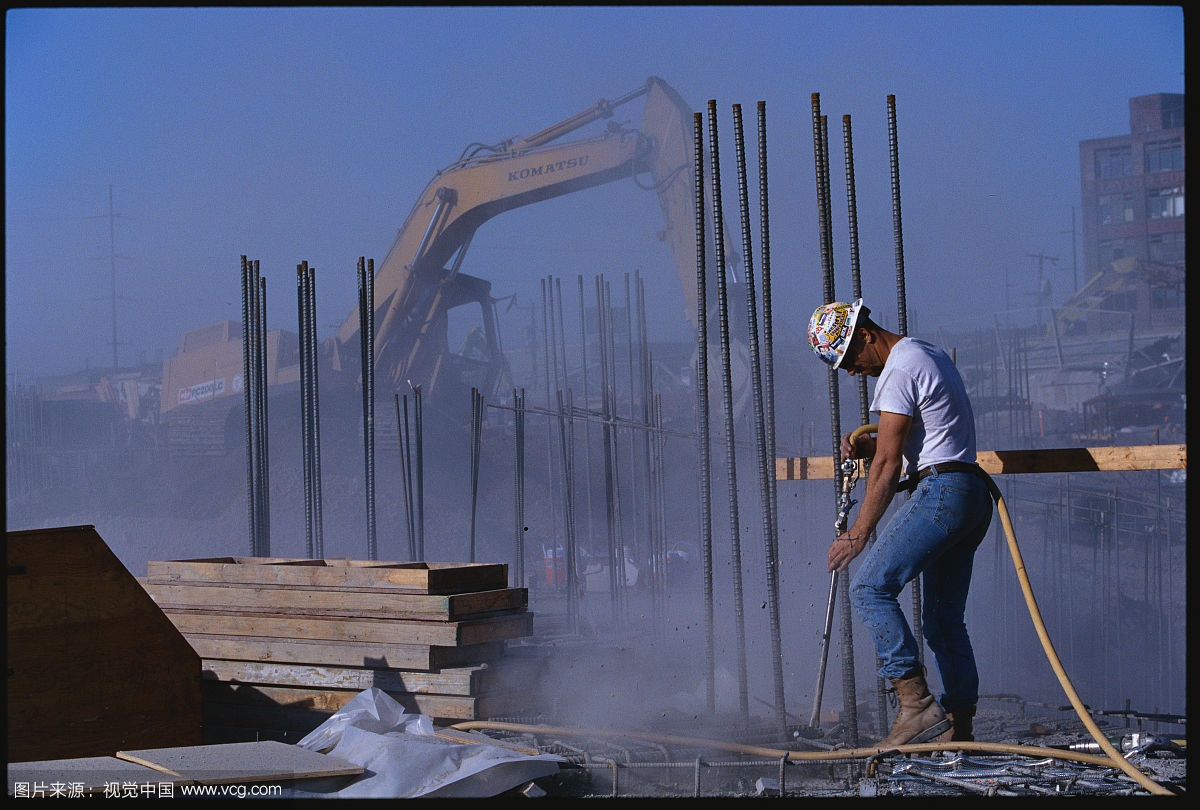white: (803, 294, 884, 380)
